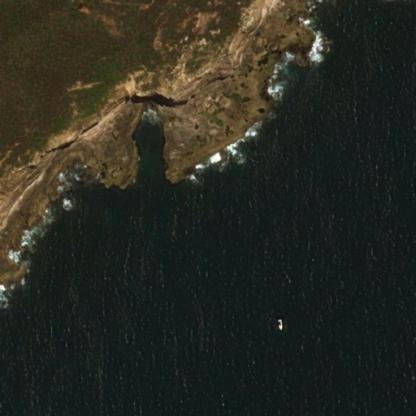ship: (277, 319, 282, 329)
